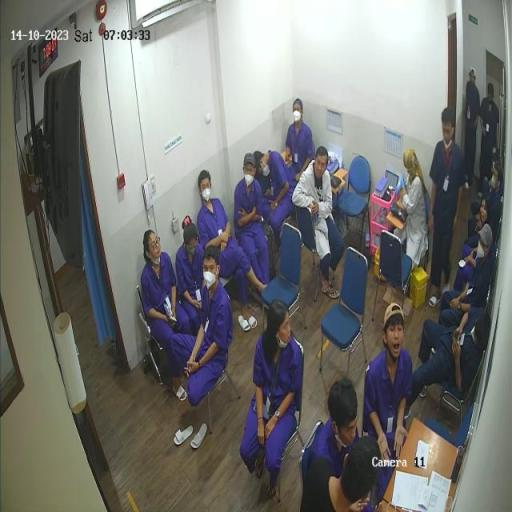person: (241, 301, 303, 500), (197, 171, 268, 329), (366, 303, 415, 512), (172, 246, 235, 407), (408, 308, 492, 416), (141, 232, 192, 403), (310, 378, 374, 512), (293, 146, 345, 294), (431, 108, 464, 308), (301, 436, 378, 512), (440, 225, 494, 332), (235, 154, 272, 287), (397, 150, 430, 275), (455, 195, 496, 293), (254, 152, 294, 252), (177, 216, 208, 335), (467, 163, 504, 250), (287, 99, 316, 192), (481, 84, 499, 201), (465, 68, 481, 189)
